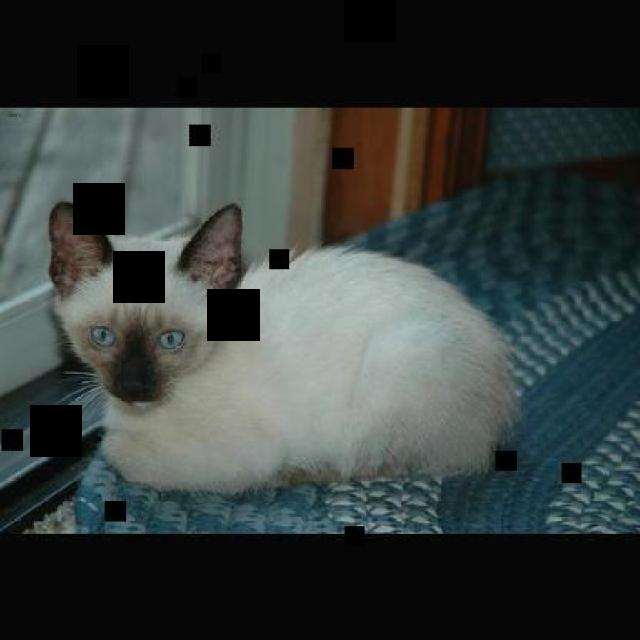unauthorized: (46, 198, 520, 496)
